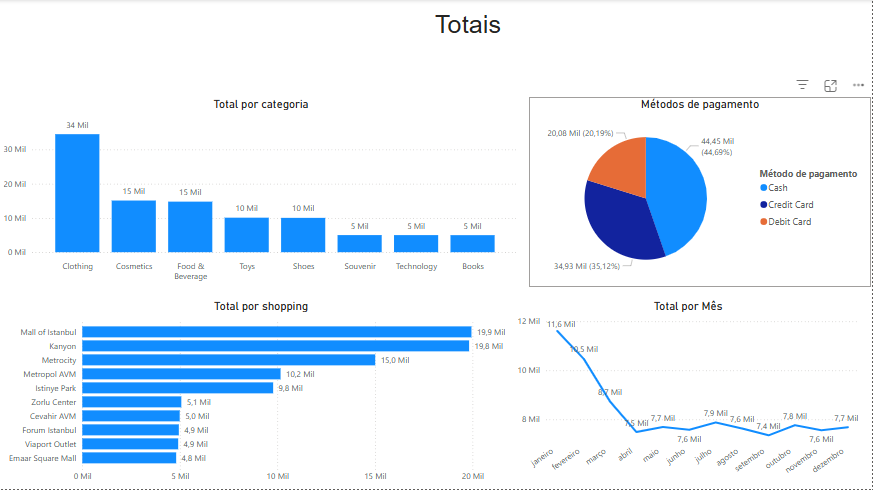

The dashboard page shown, as its layout file describes it:
{"tool":"powerbi","page":{"name":"Página 1","canvas":[1280,720],"ordinal":0},"visuals":[{"type":"clusteredColumnChart","title":"Total por categoria","fields":{"Category":["customer_shopping_data.category"],"Y":["CountNonNull(customer_shopping_data.Total)"]},"box":[0,144,767,279.2],"z":0},{"type":"clusteredBarChart","title":"Total por shopping","fields":{"Category":["customer_shopping_data.shopping_mall"],"Y":["CountNonNull(customer_shopping_data.Total)"]},"box":[0,440.8,767,279.2],"z":1000},{"type":"pieChart","title":"Métodos de pagamento","fields":{"Y":["CountNonNull(customer_shopping_data.payment_method)"],"Category":["customer_shopping_data.payment_method"]},"box":[777.3,144,502.5,279.2],"z":2000},{"type":"lineChart","title":" Total por Mês","fields":{"Category":["customer_shopping_data.invoice_date.Variation.Hierarquia de datas.Mês"],"Y":["CountNonNull(customer_shopping_data.Total)"]},"box":[755.3,440.8,511.3,279.2],"z":3000},{"type":"textbox","box":[486.4,10.3,402.6,119],"z":4000}]}

Visuals, with their boxes in screenshot pixels (x1, y1, x2, y2), scaled from the page's 1280x720 canvas onto the 873x490 screenshot:
"Total por categoria" clusteredColumnChart: bbox=(0, 98, 523, 288)
"Total por shopping" clusteredBarChart: bbox=(0, 300, 523, 489)
"Métodos de pagamento" pieChart: bbox=(530, 98, 872, 288)
" Total por Mês" lineChart: bbox=(515, 300, 864, 489)
textbox: bbox=(332, 7, 606, 88)
